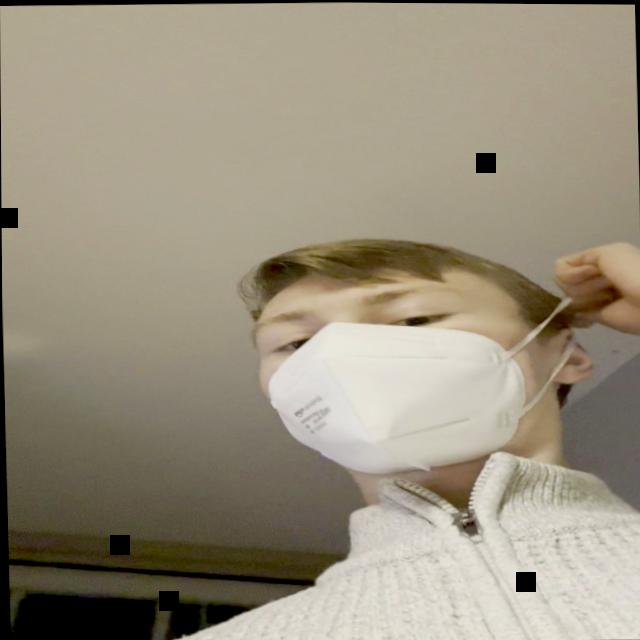Mask: (224, 218, 621, 499)
